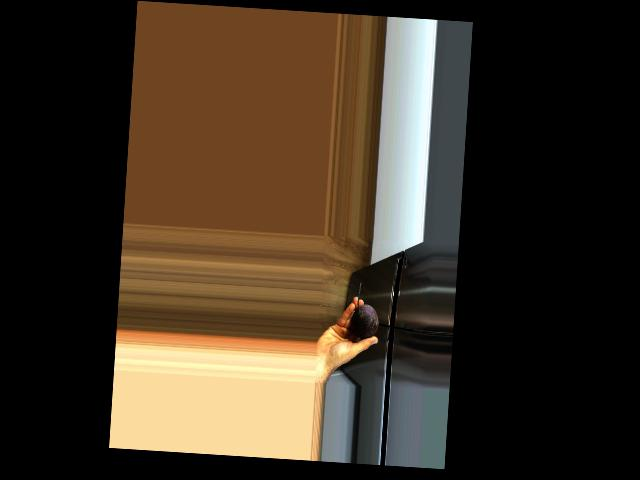beet: (351, 280, 381, 339)
